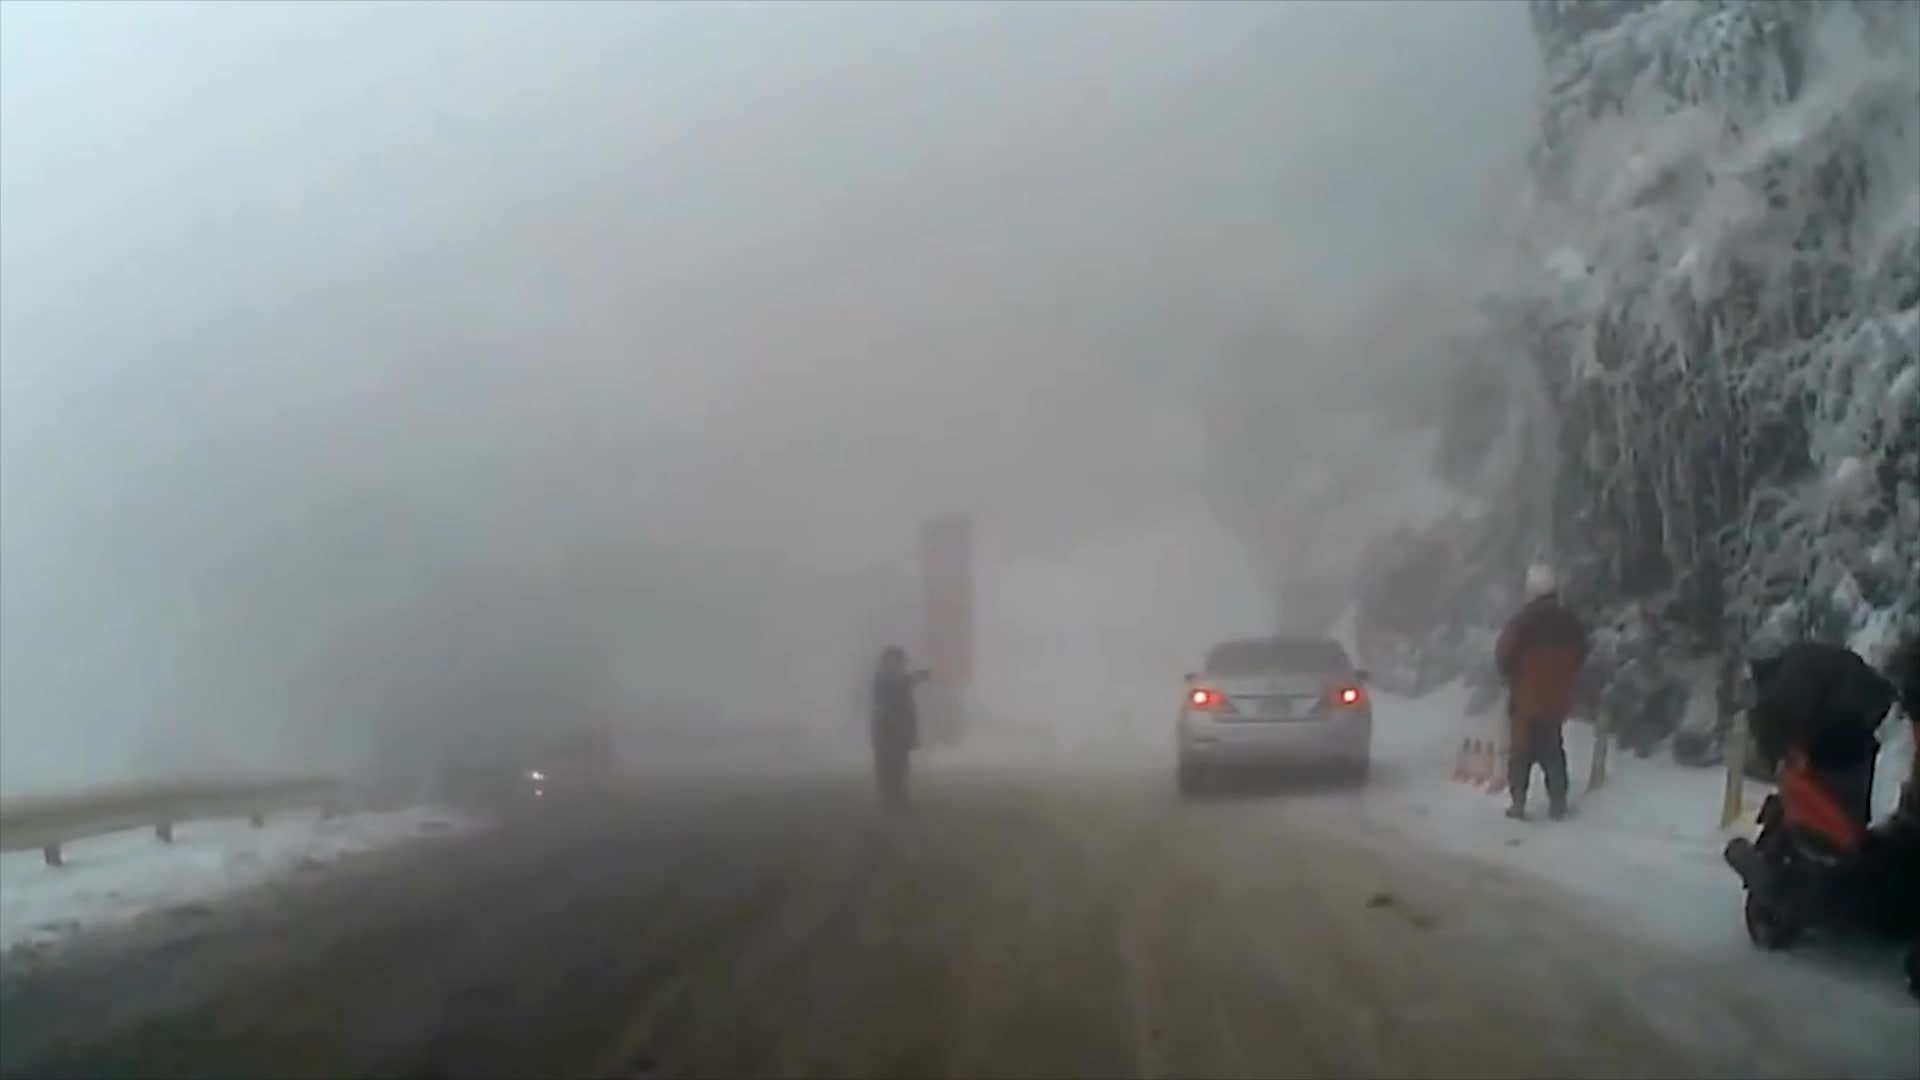pedestrian: (1495, 556, 1602, 823), (869, 643, 934, 816)
vehicle: (1173, 634, 1372, 799)
